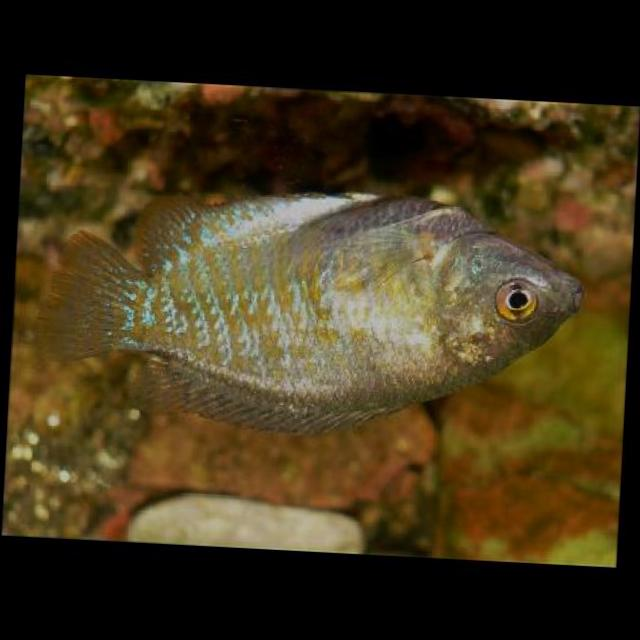Gourami: (35, 166, 591, 454)
